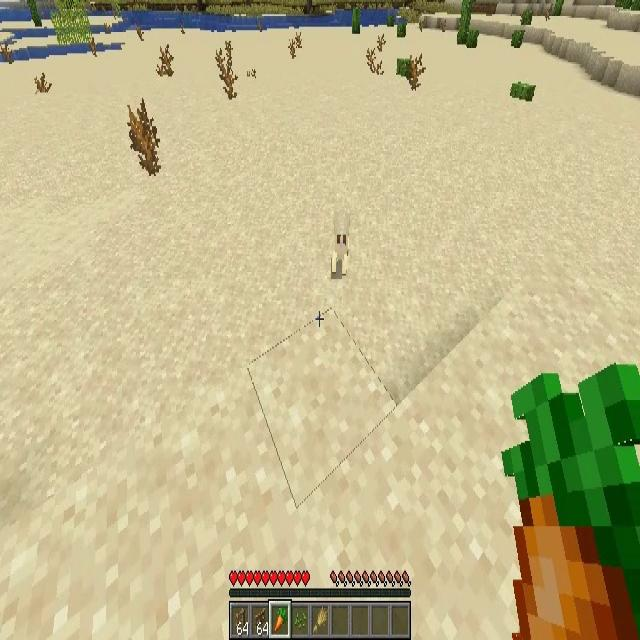rabbit: (330, 214, 350, 274)
